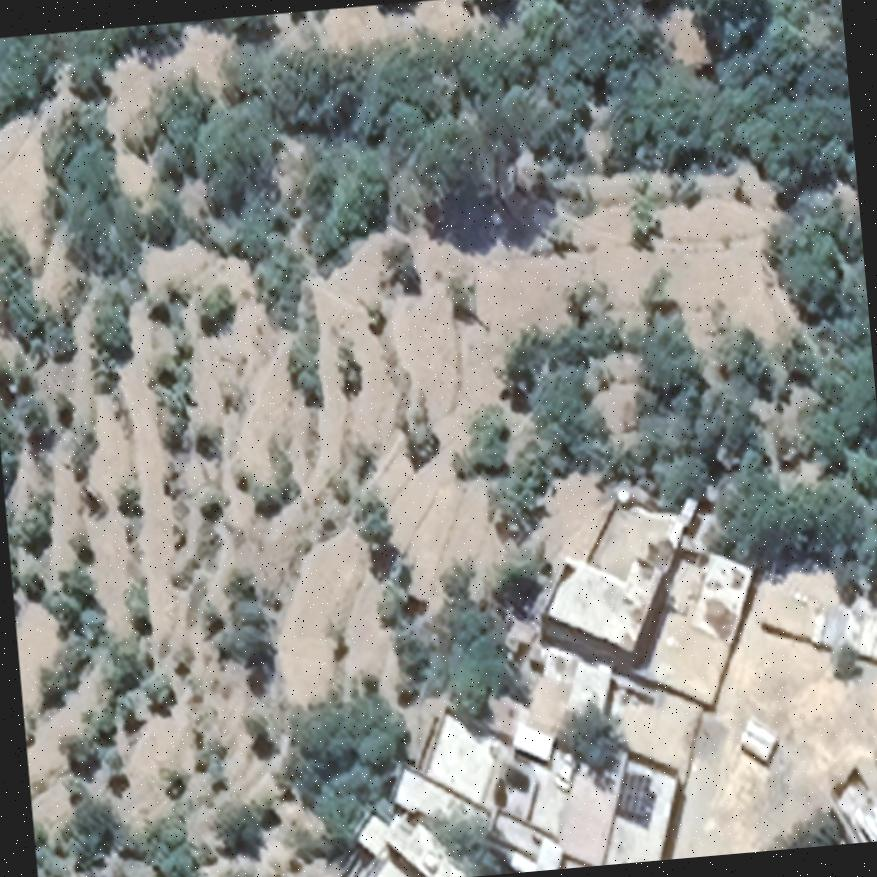Solarpanel: (612, 766, 658, 821)
